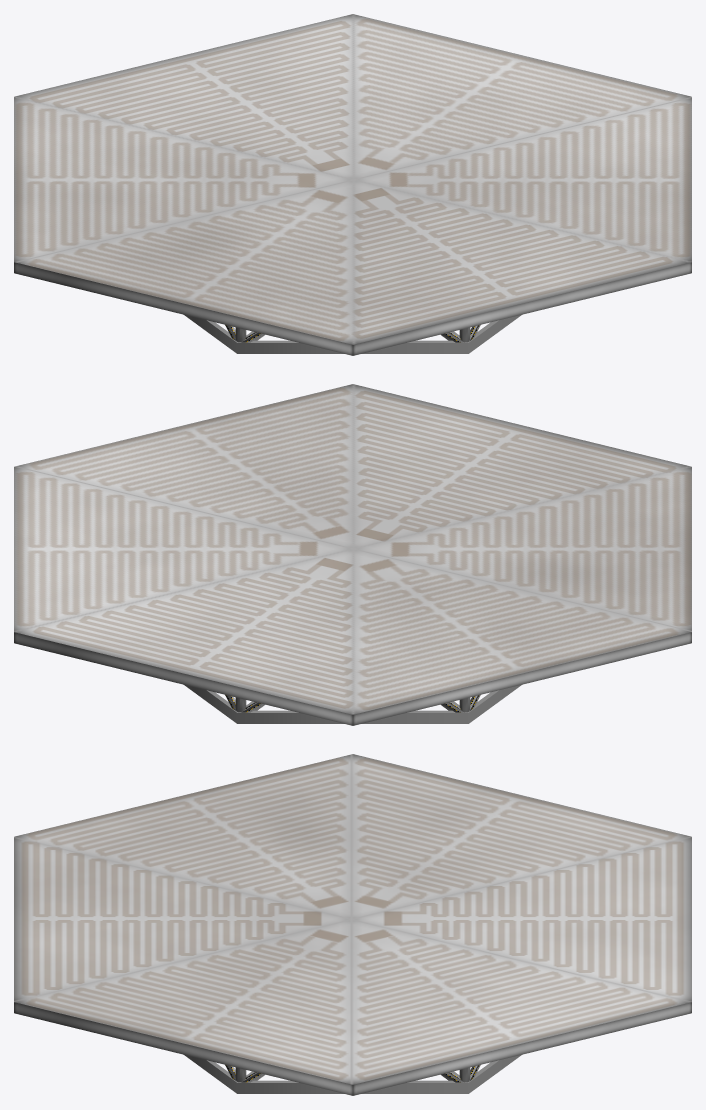
The model's file is InlineRadiator.FBX.
3 views of the same model, one above another, from view 1: azimuth 30°, elevation 25°; view 2: azimuth 150°, elevation 25°; view 3: azimuth 270°, elevation 25° (orthographic).
Parts seen in each view (by area): view 1: Radiator, Tube002; view 2: Radiator, Tube002; view 3: Radiator, Tube002.
Part boxes in pixels (x1=…): Radiator: x1=14, y1=14, x2=691, y2=355; Tube002: x1=184, y1=315, x2=521, y2=353; Radiator: x1=14, y1=384, x2=691, y2=725; Tube002: x1=184, y1=685, x2=521, y2=723; Radiator: x1=14, y1=754, x2=691, y2=1095; Tube002: x1=184, y1=1055, x2=521, y2=1093.
Size of what is drawn, in the model's own units: 3.19 by 0.4056 by 2.76.
